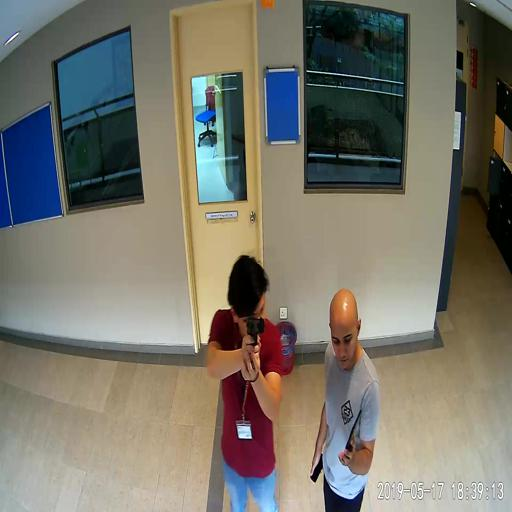pistol: (245, 316, 264, 361)
